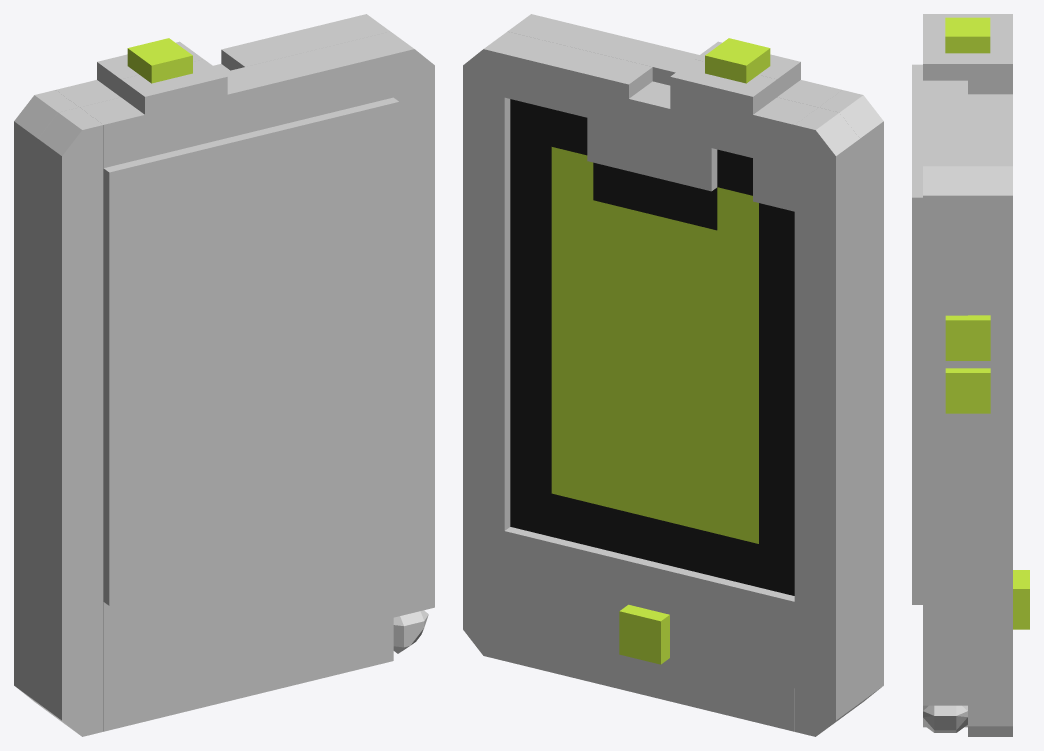
3 renders of one model, left to right at view 1: azimuth 30°, elevation 25°; view 2: azimuth 150°, elevation 25°; view 3: azimuth 270°, elevation 25°, orthographic. The views are drawn at different scales.
Parts seen in each view (by area): view 1: Cube.467, Cube.439, Cube.447, Cube.436, Cube.441, Cube.443, Cube.444, Cube.437, Cube.438, Cube.440, Cube.442, Cube.445 (+135 smaller); view 2: Cube.466, Cube.453, Cube.421, Cube.424, Cube.426, Cube.432, Cube.433, Cube.422, Cube.423, Cube.425, Cube.427, Cube.434 (+136 smaller); view 3: Cube.450, Cube.458, Cube.469, Cube.468, Cube.222, Cube.246, Cube.254, Cube.310, Cube.349, Cube.357, Cube.413, Cube.230 (+51 smaller).
Boxes of the visible parts, x1=… form: Cube.467: x1=38, y1=107, x2=103, y2=178; Cube.439: x1=38, y1=508, x2=103, y2=568; Cube.447: x1=38, y1=161, x2=103, y2=221; Cube.436: x1=38, y1=638, x2=103, y2=698; Cube.441: x1=38, y1=421, x2=103, y2=481; Cube.443: x1=38, y1=334, x2=103, y2=394; Cube.444: x1=38, y1=291, x2=103, y2=351; Cube.437: x1=38, y1=594, x2=103, y2=654; Cube.438: x1=38, y1=551, x2=103, y2=611; Cube.440: x1=38, y1=464, x2=103, y2=524; Cube.442: x1=38, y1=378, x2=103, y2=438; Cube.445: x1=38, y1=248, x2=103, y2=308; Cube.466: x1=794, y1=107, x2=859, y2=178; Cube.453: x1=587, y1=57, x2=652, y2=127; Cube.421: x1=794, y1=638, x2=859, y2=698; Cube.424: x1=794, y1=508, x2=859, y2=568; Cube.426: x1=794, y1=421, x2=859, y2=481; Cube.432: x1=794, y1=291, x2=859, y2=351; Cube.433: x1=794, y1=248, x2=859, y2=308; Cube.422: x1=794, y1=594, x2=859, y2=654; Cube.423: x1=794, y1=551, x2=859, y2=611; Cube.425: x1=794, y1=464, x2=859, y2=524; Cube.427: x1=794, y1=378, x2=859, y2=438; Cube.434: x1=794, y1=204, x2=859, y2=264; Cube.450: x1=968, y1=156, x2=1012, y2=216; Cube.458: x1=923, y1=156, x2=967, y2=216; Cube.469: x1=945, y1=368, x2=990, y2=413; Cube.468: x1=945, y1=315, x2=990, y2=360; Cube.222: x1=968, y1=664, x2=1012, y2=705; Cube.246: x1=968, y1=542, x2=1012, y2=583; Cube.254: x1=968, y1=501, x2=1012, y2=542; Cube.310: x1=968, y1=216, x2=1012, y2=257; Cube.349: x1=923, y1=542, x2=967, y2=583; Cube.357: x1=923, y1=501, x2=967, y2=542; Cube.413: x1=923, y1=216, x2=967, y2=257; Cube.230: x1=968, y1=624, x2=1012, y2=664.
Size of the model in its own units: 0.9113 by 1.46 by 0.2584.
